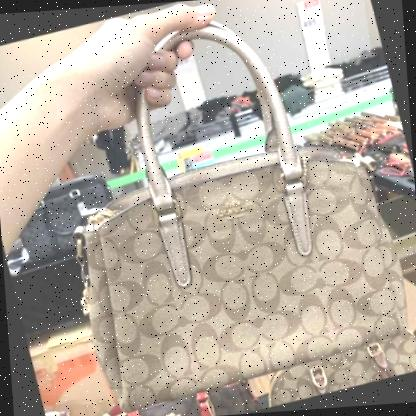bag: (43, 4, 415, 406)
